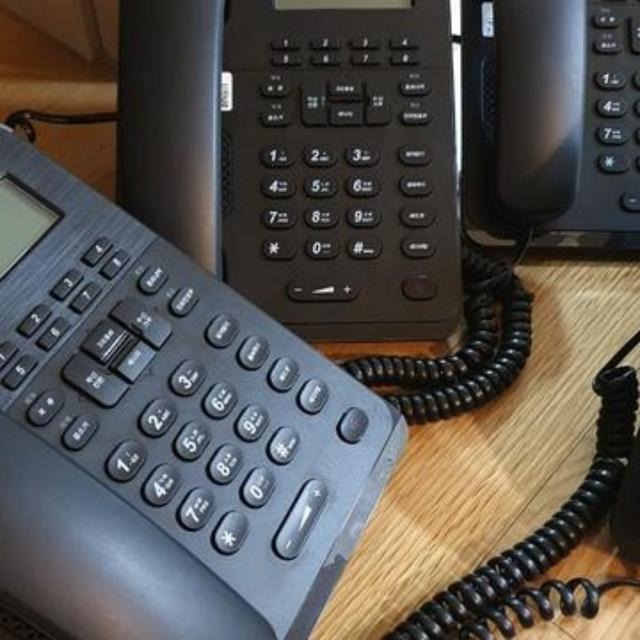Telephone-Set: (0, 122, 410, 638), (110, 0, 460, 342), (466, 0, 640, 252)
